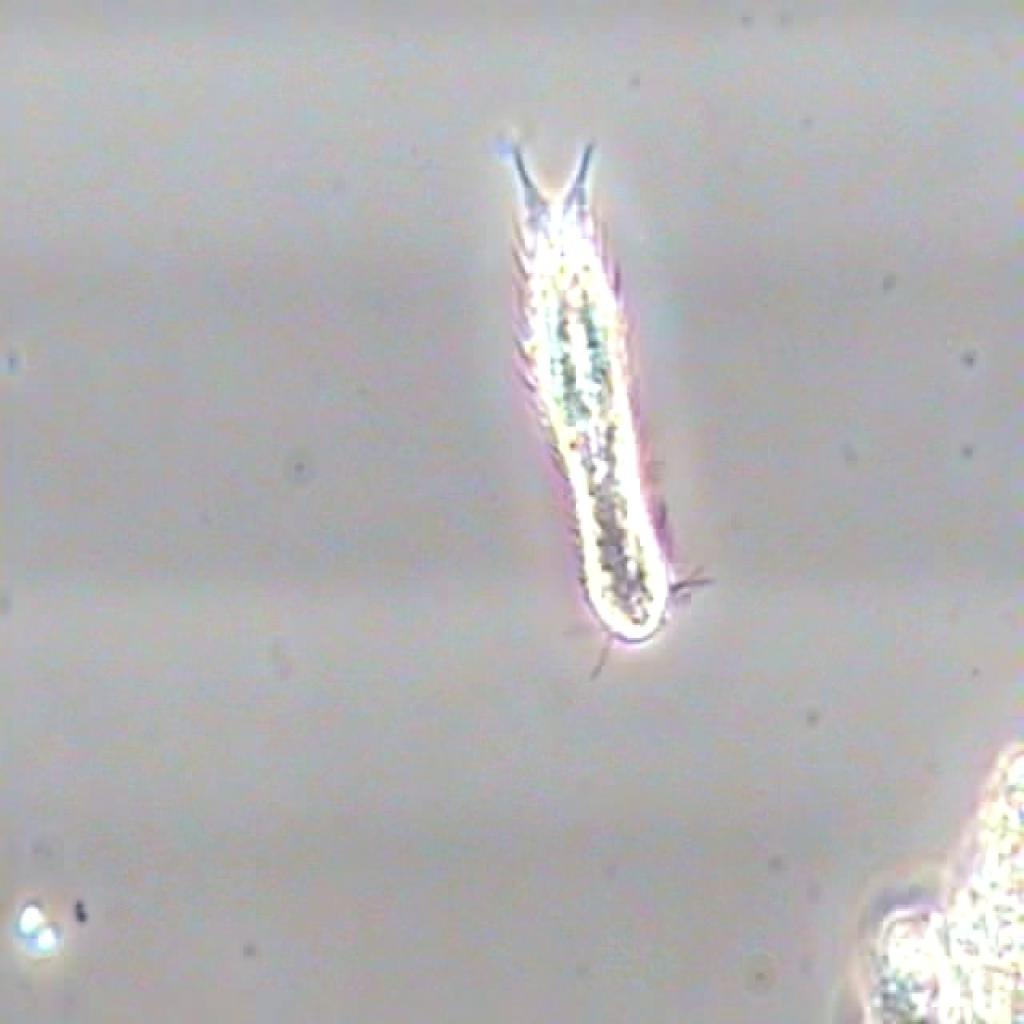Chaetonotus: (481, 130, 743, 689)
